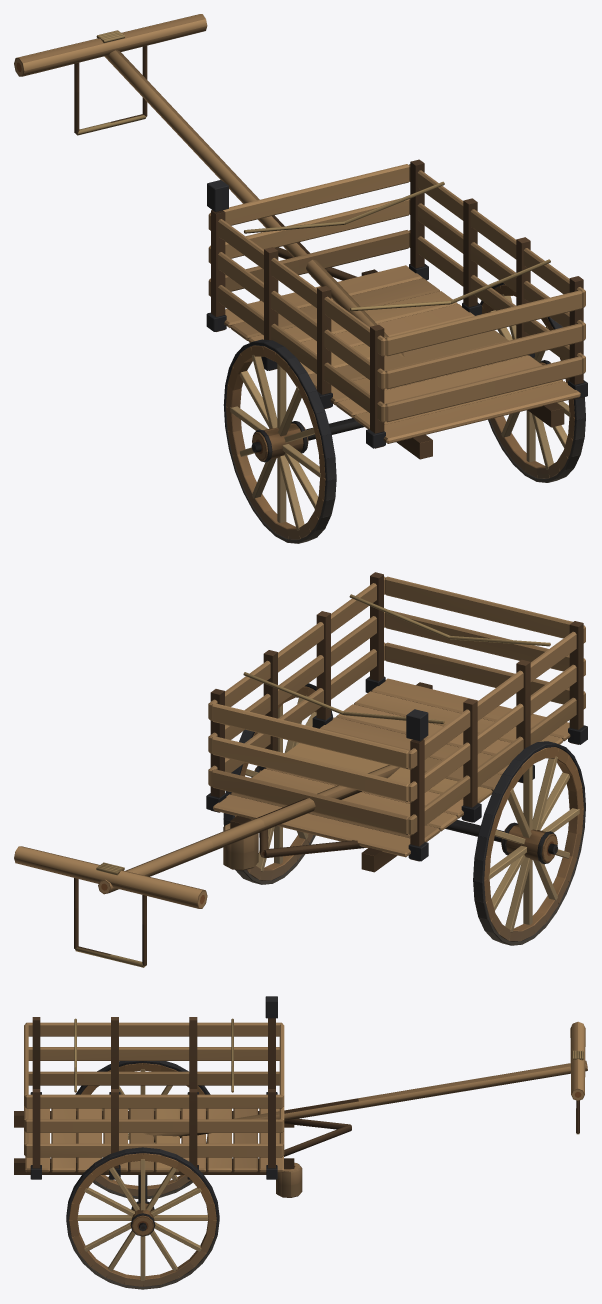
The model's file is ox_cart.glb.
3 renders of one model, top to bottom at view 1: azimuth 30°, elevation 25°; view 2: azimuth 150°, elevation 25°; view 3: azimuth 270°, elevation 25°, orthographic. The views are drawn at different scales.
Parts seen in each view (by area): view 1: plank-001, wood-001, wood-wheel-002, wood-wheel-003, dark-001; view 2: plank-001, wood-001, wood-wheel-002, wood-wheel-003, dark-001; view 3: plank-001, wood-001, wood-wheel-003, wood-wheel-002, dark-001.
Part boxes in pixels (x1,y1,x2,y2): plank-001: (208, 164, 585, 443); wood-001: (14, 14, 583, 459); wood-wheel-002: (223, 339, 336, 543); wood-wheel-003: (480, 283, 585, 482); dark-001: (206, 180, 587, 448); plank-001: (208, 576, 585, 870); wood-001: (14, 572, 583, 967); wood-wheel-002: (473, 741, 585, 945); wood-wheel-003: (223, 683, 333, 884); dark-001: (206, 676, 587, 861); plank-001: (24, 1022, 302, 1197); wood-001: (14, 1017, 587, 1174); wood-wheel-003: (66, 1147, 219, 1289); wood-wheel-002: (75, 1061, 210, 1198); dark-001: (30, 996, 277, 1201).
Size of the model in its own units: 2.3 by 2.05 by 5.12.
